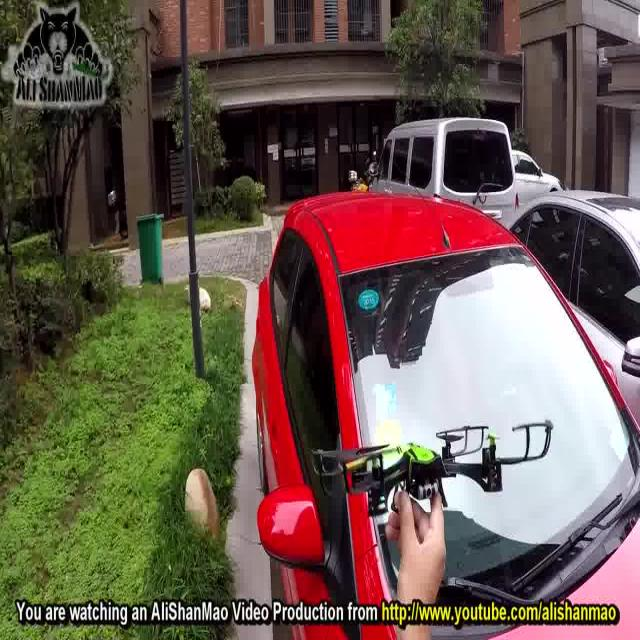Drone_FW: (311, 417, 553, 496)
